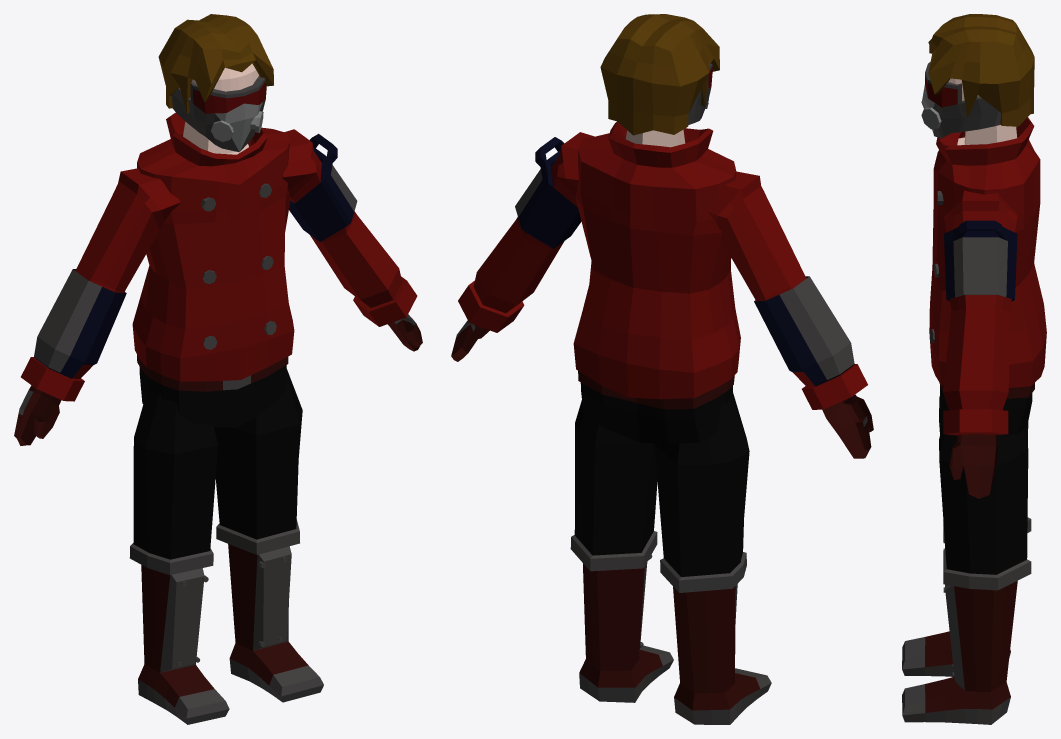
The model's file is wompwom.fbx.
3 views of the same model, side by side, from view 1: azimuth 30°, elevation 25°; view 2: azimuth 150°, elevation 25°; view 3: azimuth 270°, elevation 25° (orthographic). The views are drawn at different scales.
Visible parts, largest first — view 1: Legs, Body, Arms, Hair, Mask, Hands, Buttons, Head; view 2: Body, Legs, Arms, Hair, Hands, Neck; view 3: Legs, Arms, Body, Hair, Mask, Hands, Neck, Cylinder, Buttons.
Boxes of the visible parts, x1=… form: Legs: x1=129, y1=369, x2=323, y2=724; Body: x1=132, y1=112, x2=294, y2=427; Arms: x1=21, y1=129, x2=417, y2=401; Hair: x1=158, y1=14, x2=273, y2=113; Mask: x1=171, y1=75, x2=266, y2=152; Hands: x1=14, y1=314, x2=422, y2=445; Buttons: x1=177, y1=183, x2=287, y2=666; Head: x1=192, y1=63, x2=258, y2=91; Body: x1=573, y1=122, x2=740, y2=443; Legs: x1=570, y1=392, x2=771, y2=724; Arms: x1=458, y1=132, x2=867, y2=409; Hair: x1=600, y1=14, x2=719, y2=135; Hands: x1=451, y1=320, x2=873, y2=458; Neck: x1=625, y1=129, x2=685, y2=147; Legs: x1=902, y1=396, x2=1031, y2=724; Arms: x1=943, y1=132, x2=1017, y2=435; Body: x1=929, y1=117, x2=1046, y2=434; Hair: x1=928, y1=14, x2=1034, y2=126; Mask: x1=922, y1=62, x2=1000, y2=138; Hands: x1=949, y1=433, x2=998, y2=498; Neck: x1=957, y1=125, x2=1017, y2=145; Cylinder: x1=921, y1=99, x2=941, y2=129; Buttons: x1=929, y1=191, x2=954, y2=676.
Bounding box in the file's own units: 103 × 163 × 32.1.
